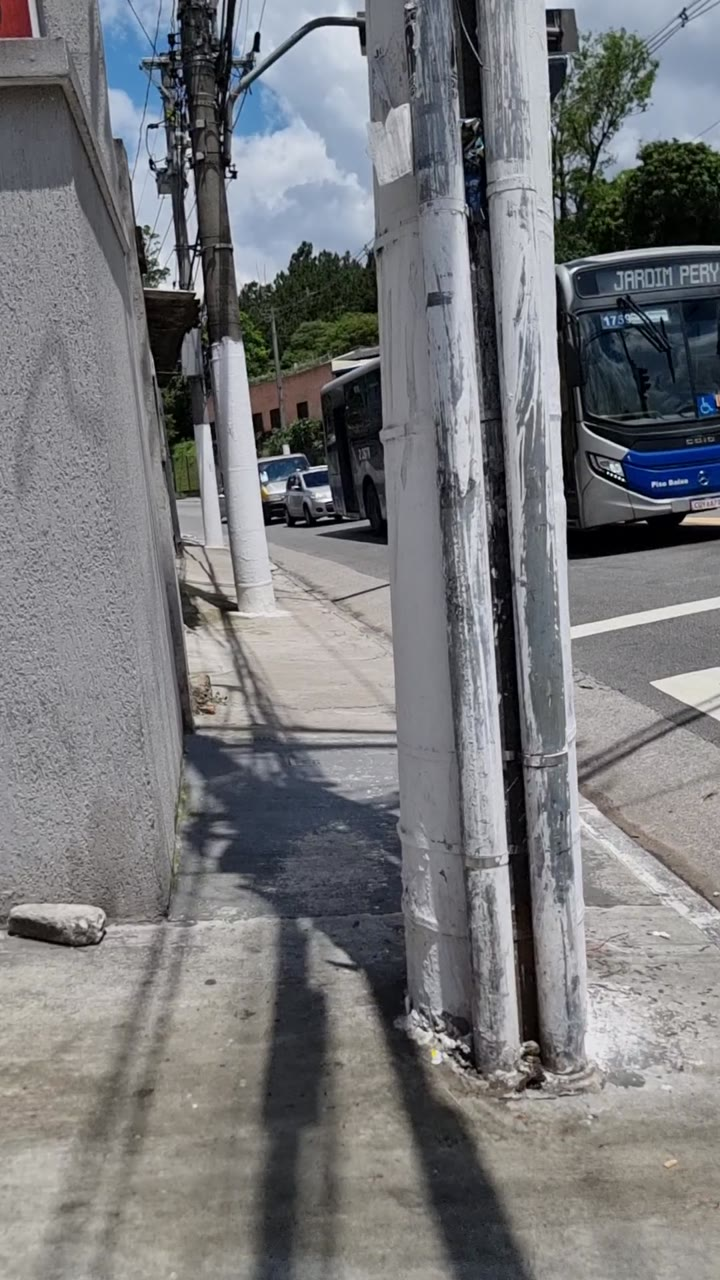obstaculo: (374, 0, 590, 1101), (194, 0, 274, 589)
